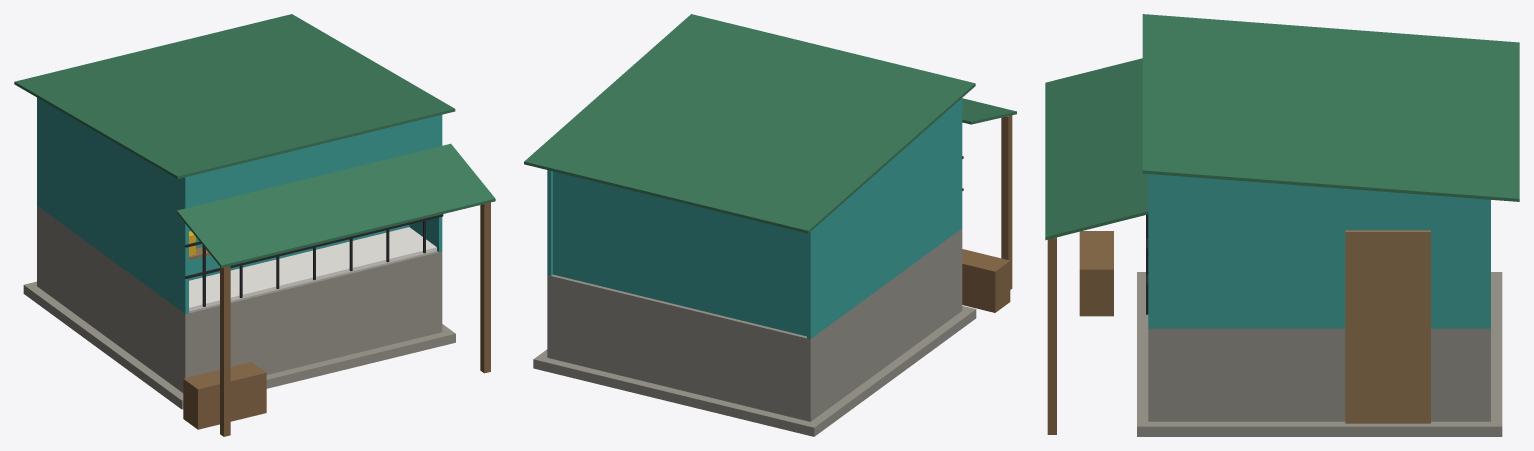
The model's file is BAY_I_SariSari_J.glb.
The picture shows the model from 3 angles, left to right: view 1: azimuth 30°, elevation 25°; view 2: azimuth 150°, elevation 25°; view 3: azimuth 270°, elevation 25°; orthographic projection. The views are drawn at different scales.
Visible parts, largest first — view 1: BAY_I_SariSari_J; view 2: BAY_I_SariSari_J; view 3: BAY_I_SariSari_J.
Boxes of the visible parts, x1,y1,x2,y2 form: BAY_I_SariSari_J: (14,14,495,436); BAY_I_SariSari_J: (524,14,1016,436); BAY_I_SariSari_J: (1045,14,1519,436).
Size of the model in its own units: 3.32 by 2.58 by 4.15.
1 material, 1 textured.
